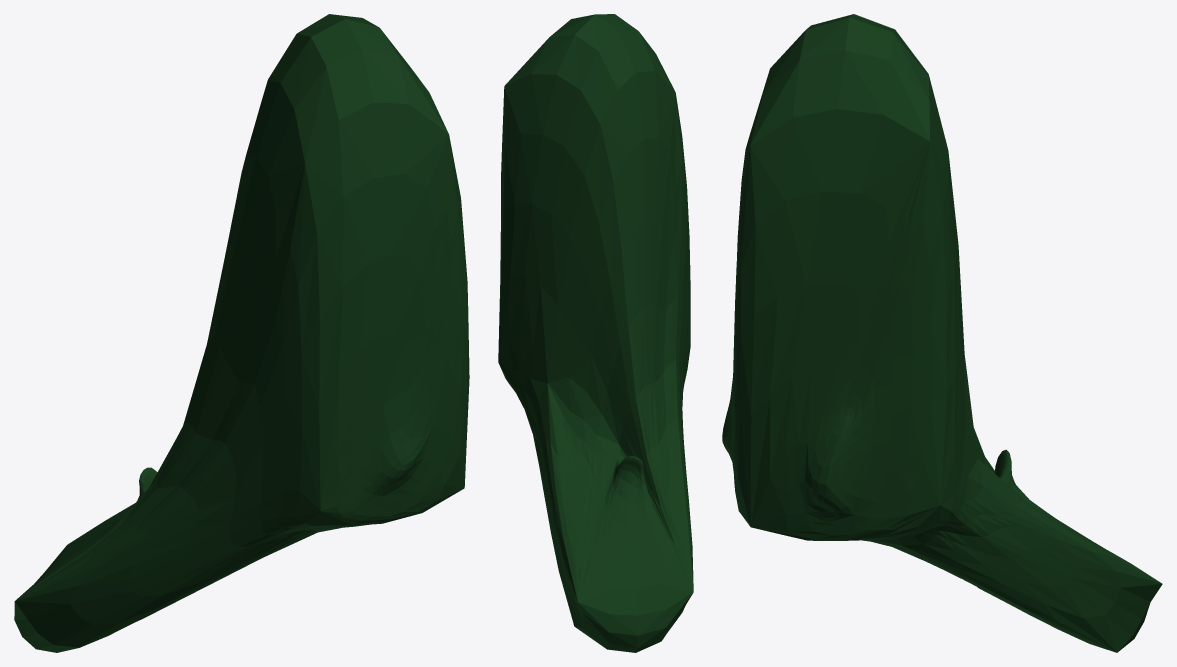
The picture shows the model from 3 angles, left to right: view 1: azimuth 30°, elevation 25°; view 2: azimuth 150°, elevation 25°; view 3: azimuth 270°, elevation 25°; orthographic projection. The views are drawn at different scales.
Visible parts, largest first — view 1: 898_Cube.3626; view 2: 898_Cube.3626; view 3: 898_Cube.3626.
Boxes of the visible parts, x1,y1,x2,y2 form: 898_Cube.3626: [14, 14, 469, 652]; 898_Cube.3626: [498, 14, 693, 652]; 898_Cube.3626: [722, 14, 1162, 652].
Bounding box in the file's own units: 8.34 × 16.13 × 9.14.
